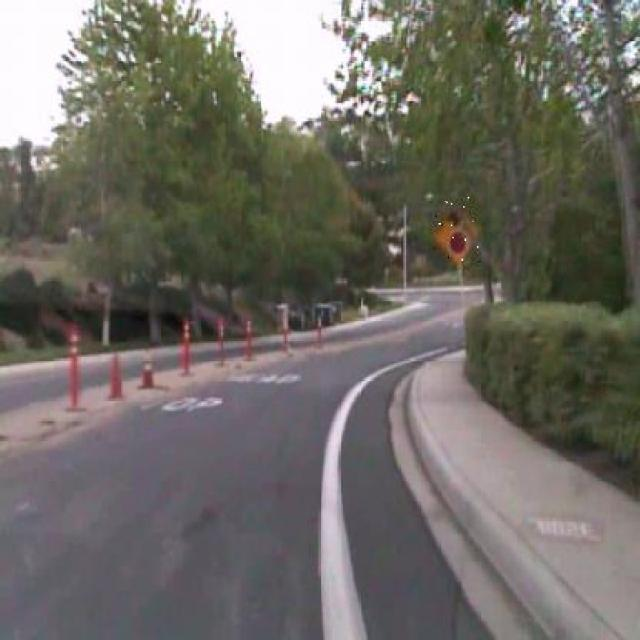stopAhead: (431, 197, 482, 264)
